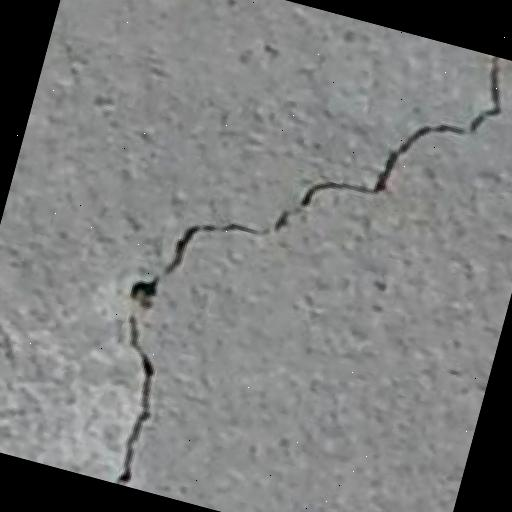spalling: (103, 57, 511, 482)
